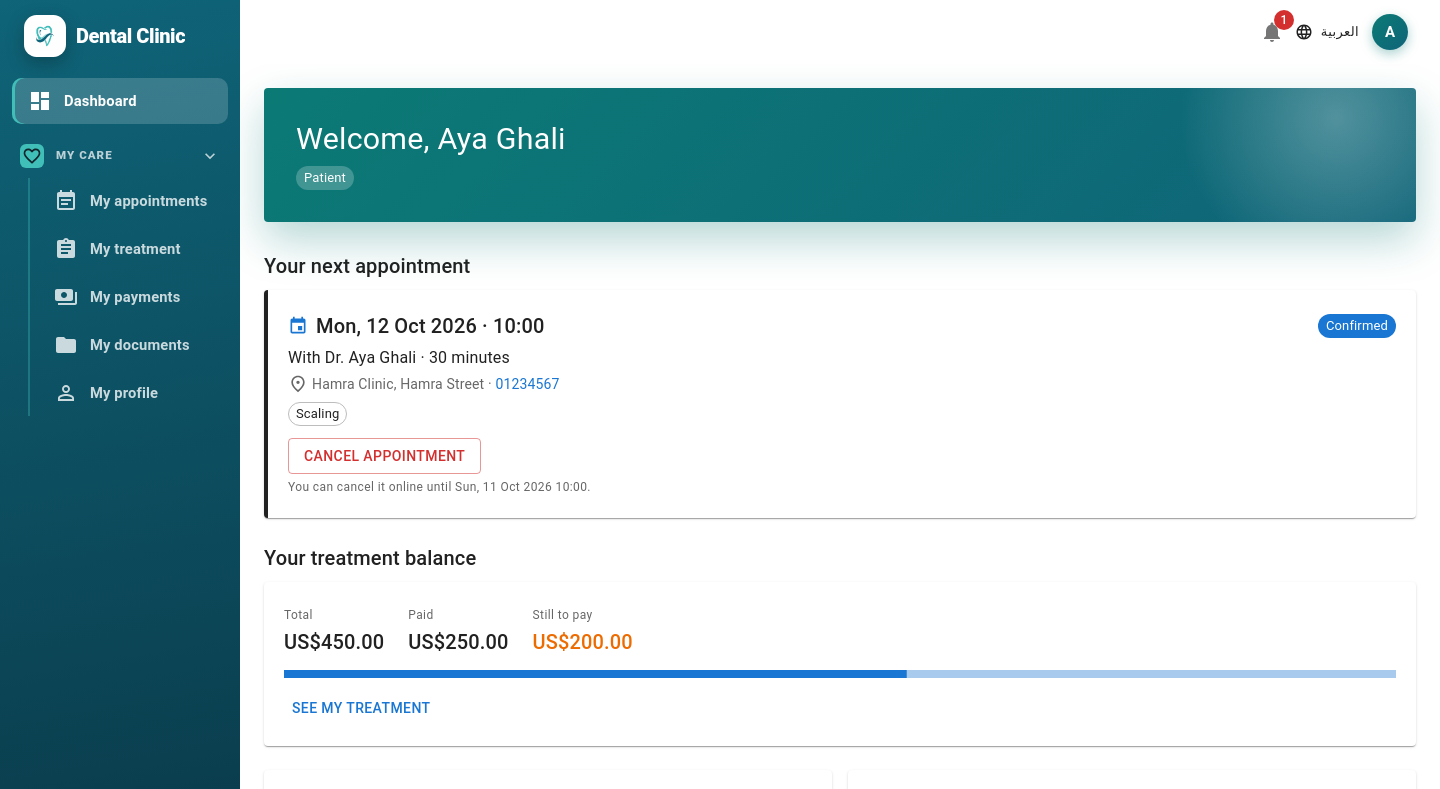
the patient’s notifications › reach the patient through the bell, and lead to their own pages
Click the button named "Notifications, 1 unread": coordinates (1272, 32) [1252,12,1292,52]
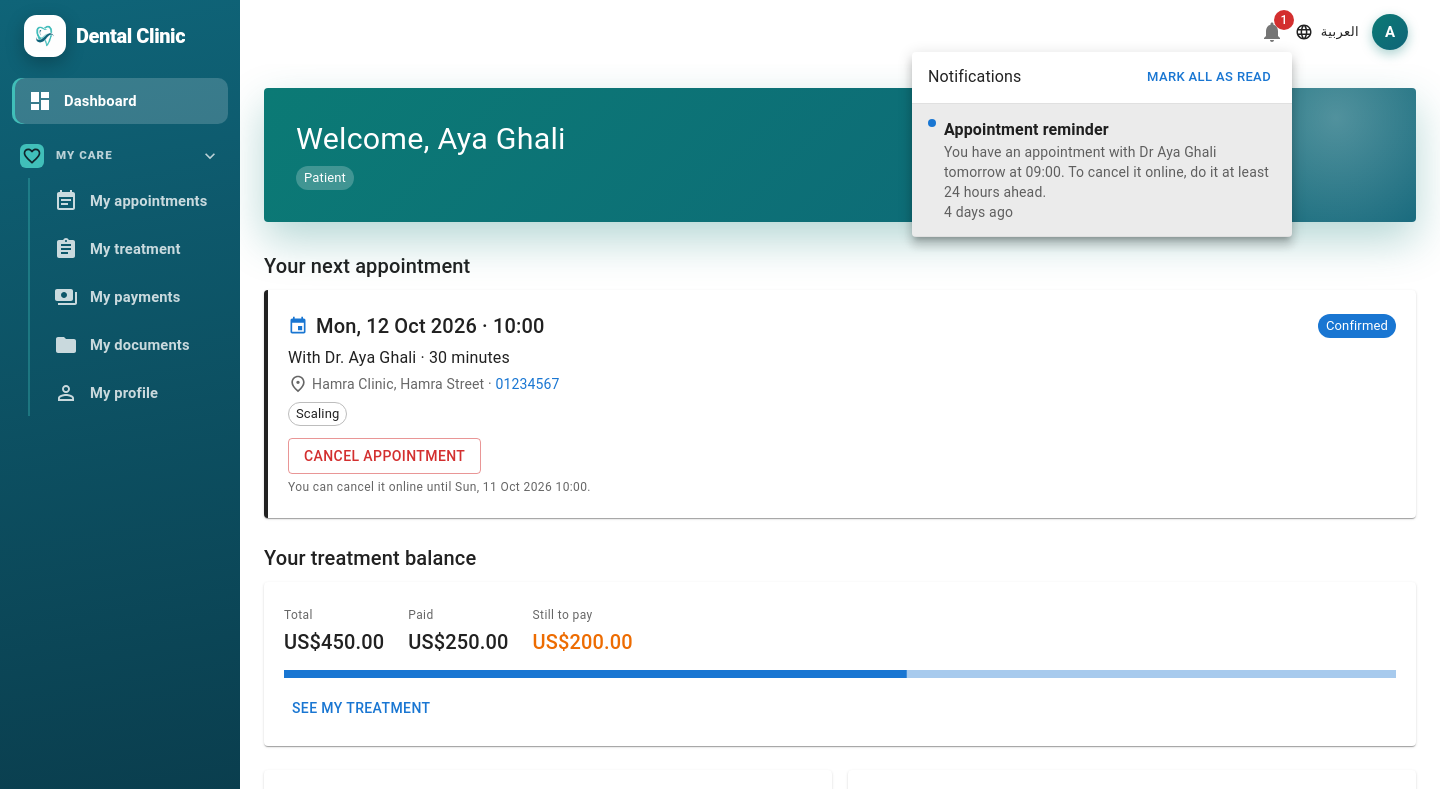
Now the text "Appointment reminder" is shown, box [944,120,1109,139]
Now the text "You have an appointment with Dr Aya Ghali tomorrow at 09:00" is shown, box [944,144,1269,200]
